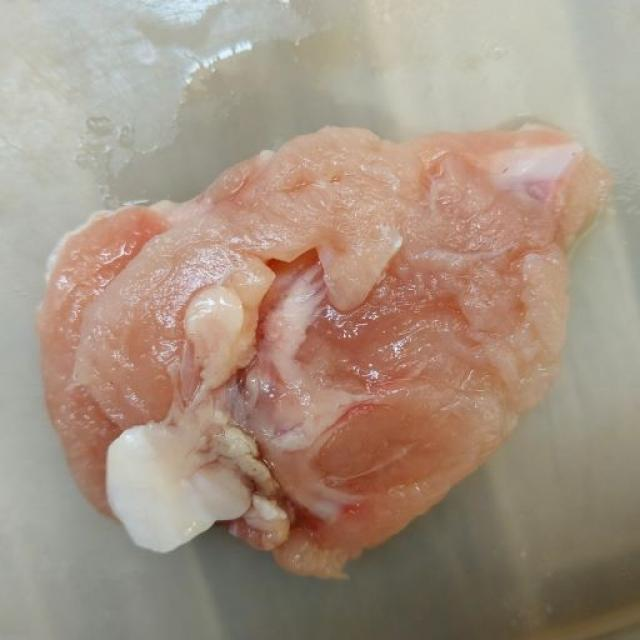chicken: (27, 116, 618, 603)
